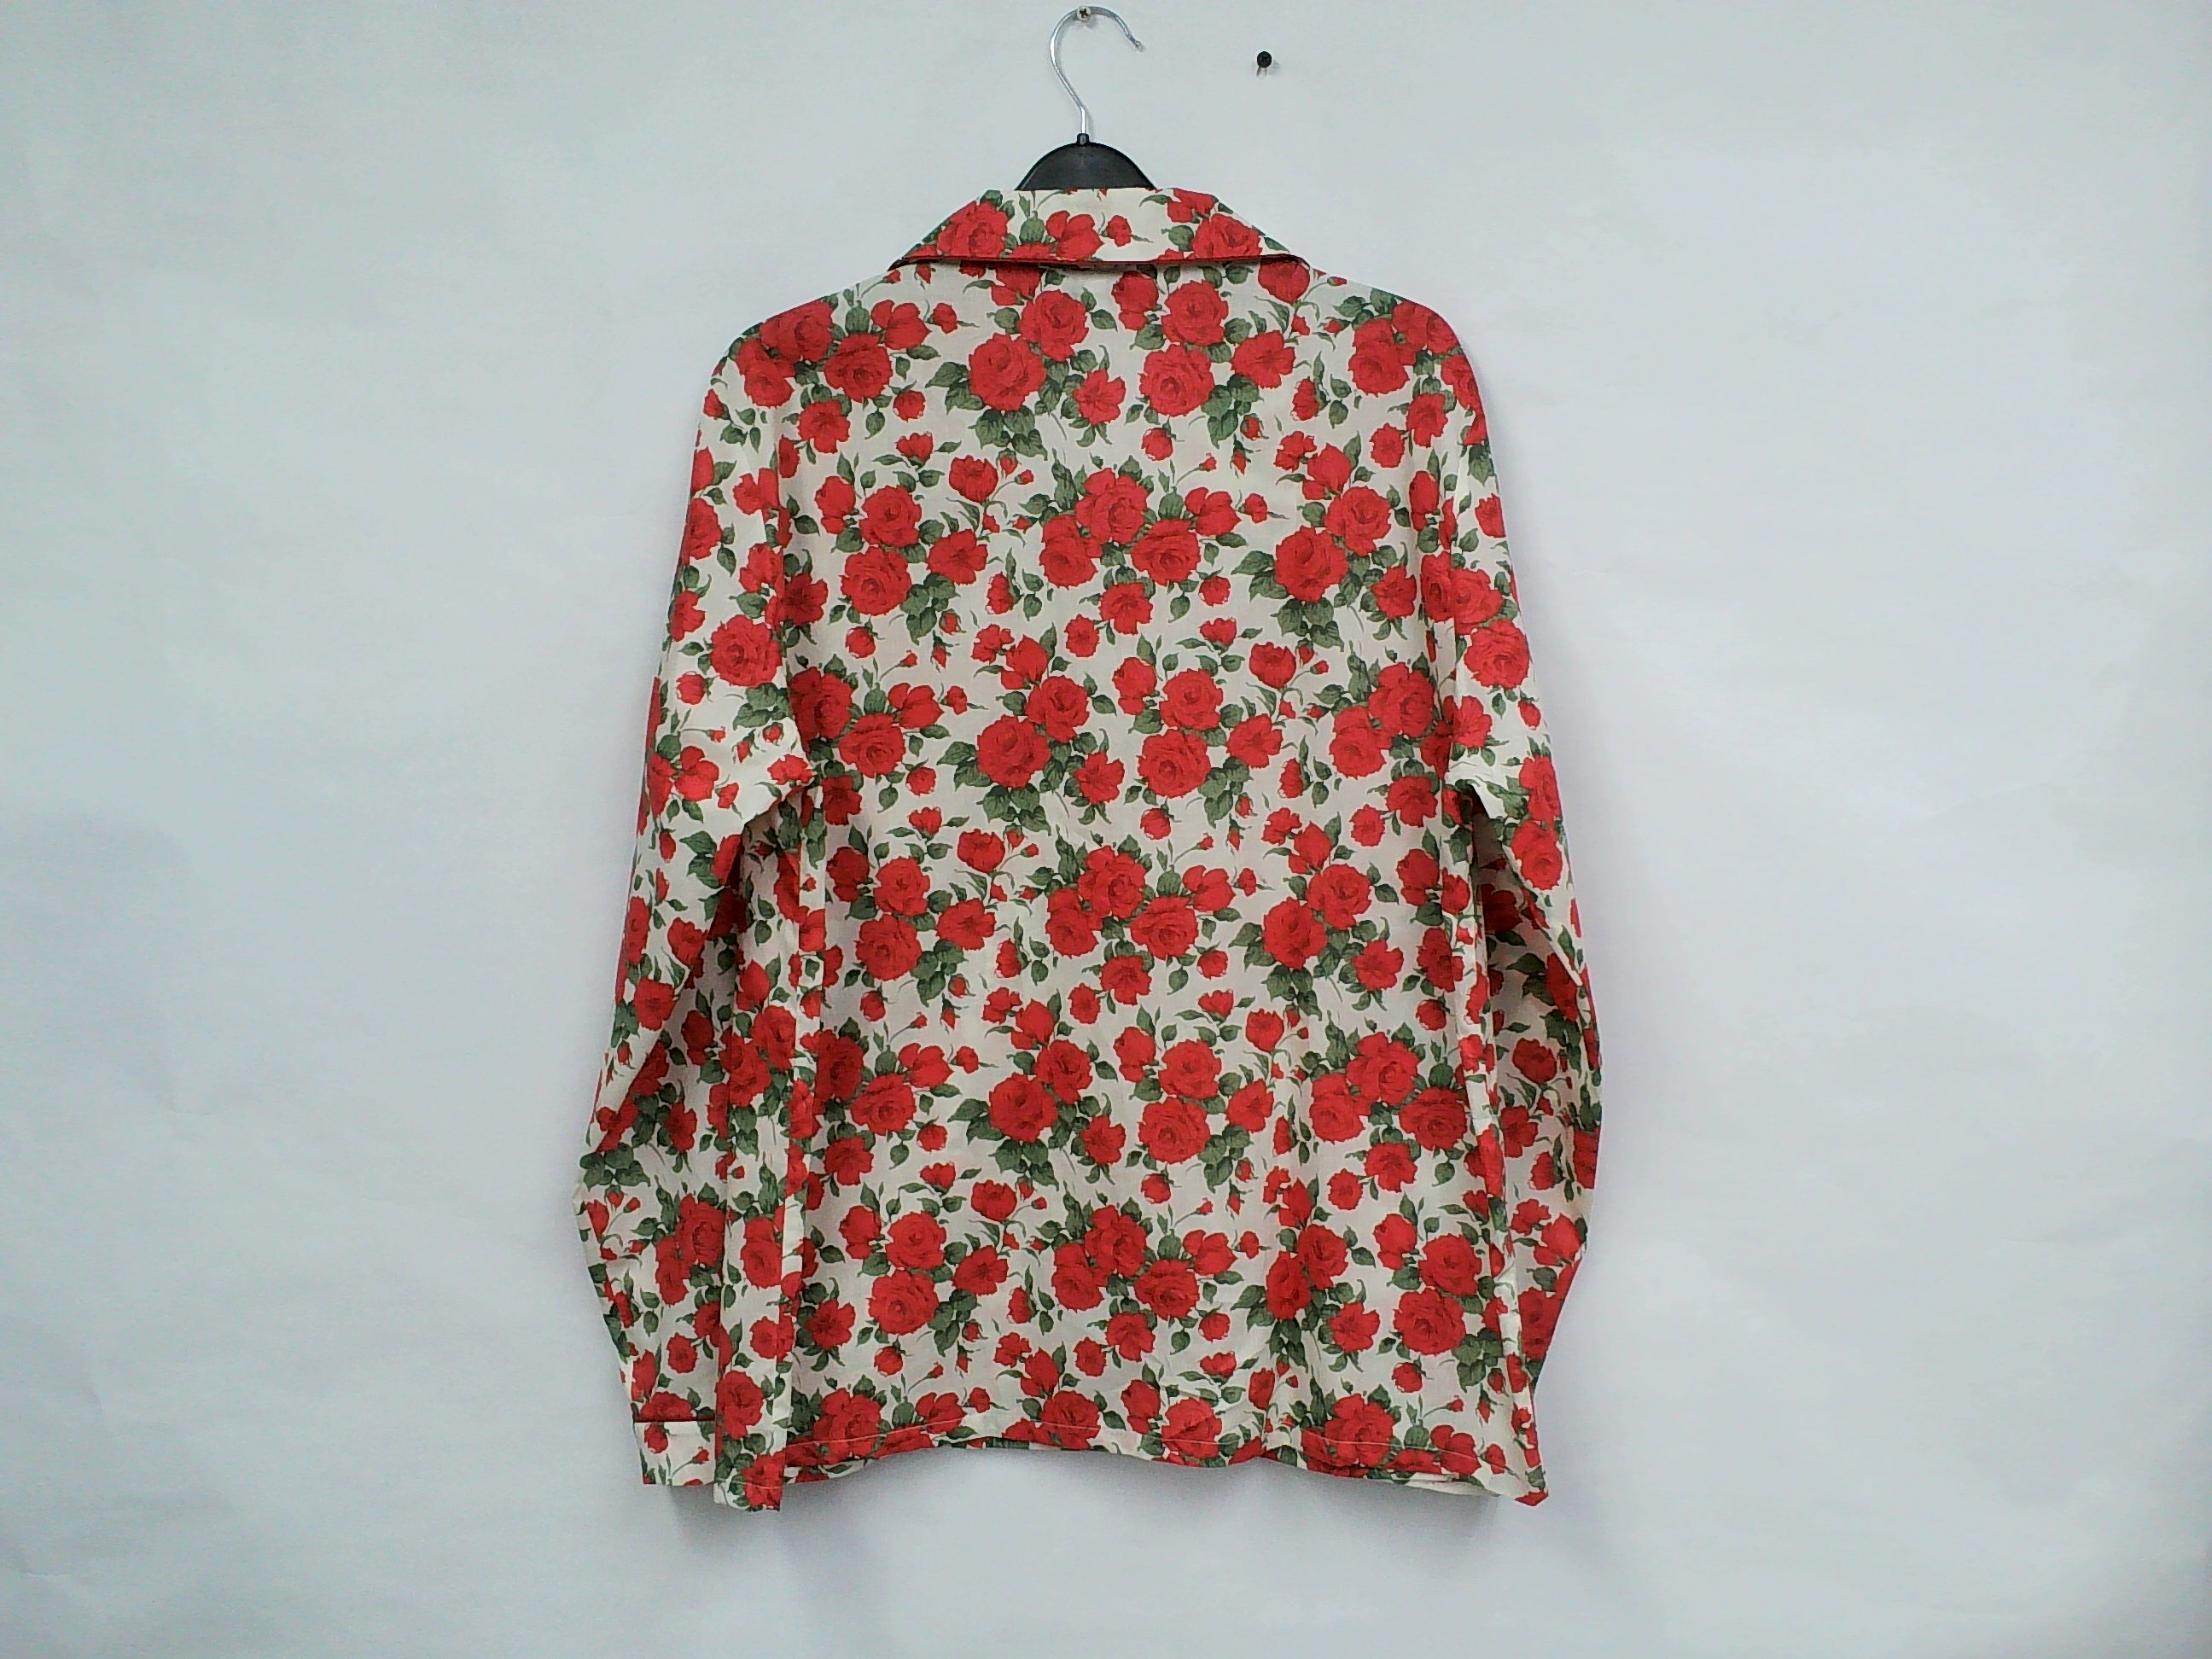wrinkles: (735, 868, 827, 1539), (1355, 1398, 1548, 1530)
